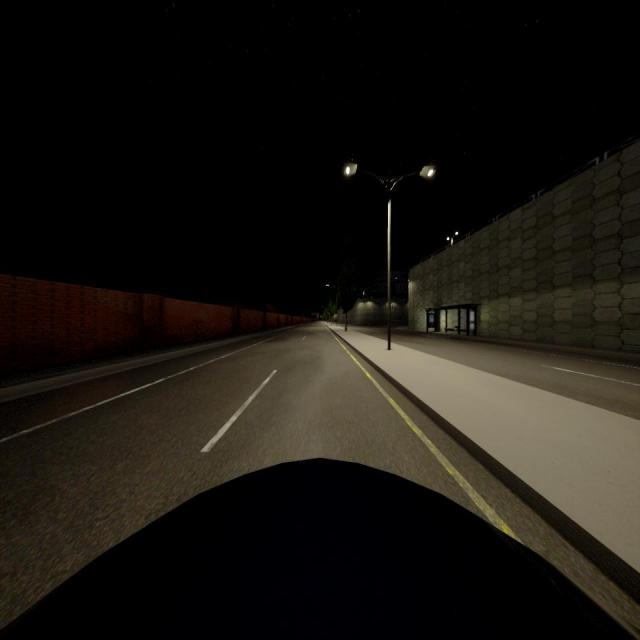Vehicle: (2, 460, 640, 639)
